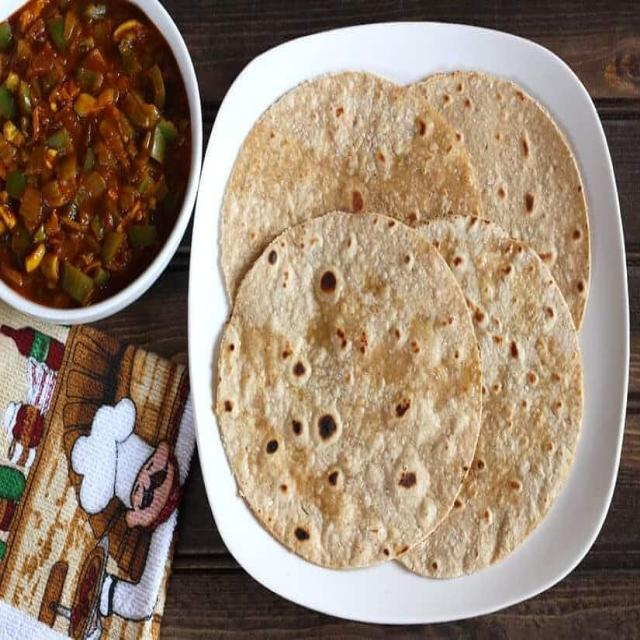roti: (216, 213, 481, 567), (389, 213, 580, 578), (222, 70, 482, 303), (402, 70, 588, 331)
